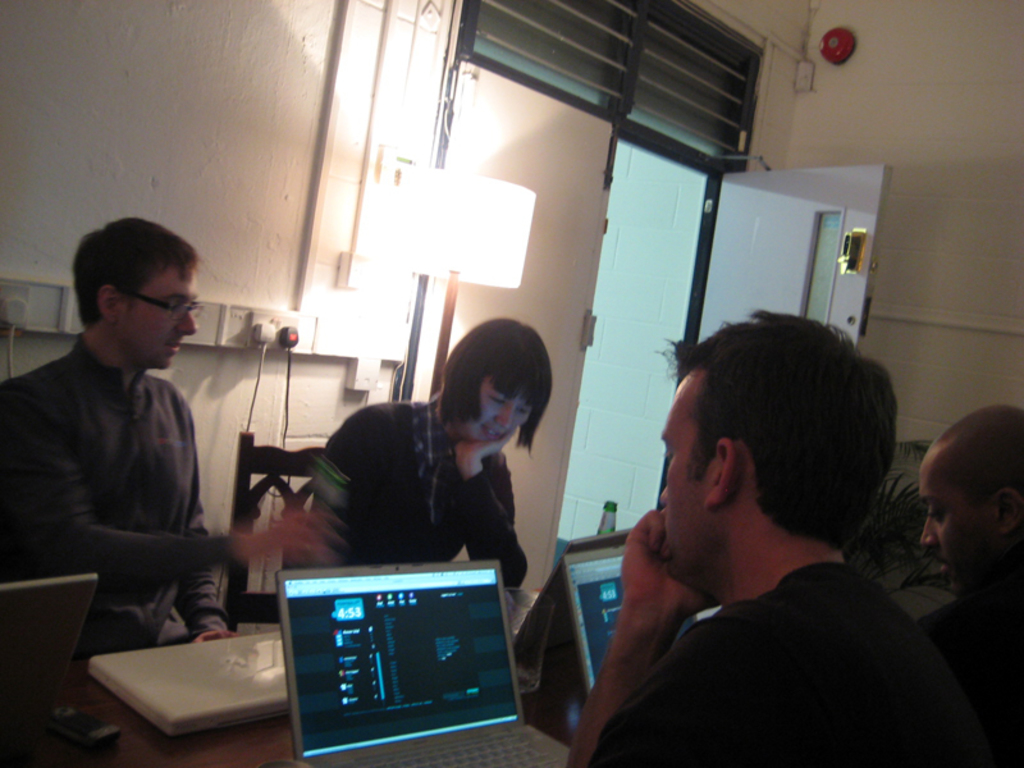Human-face: (657, 387, 708, 594), (923, 449, 992, 591), (115, 266, 198, 371), (458, 381, 530, 445)
